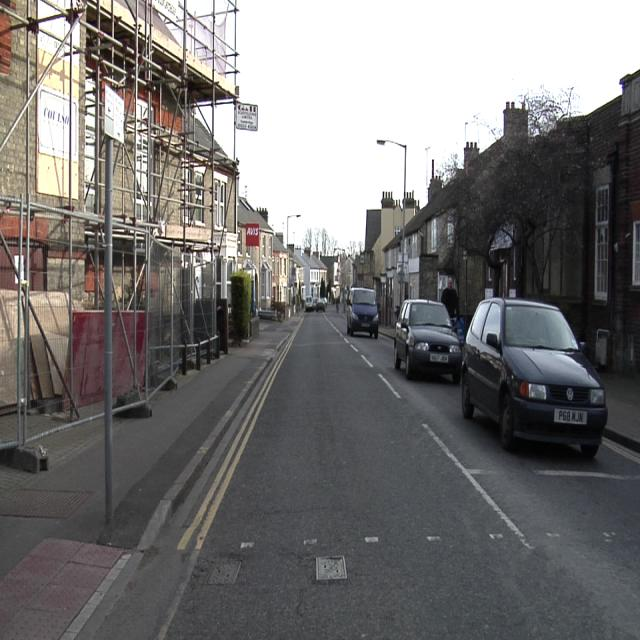Building: (2, 4, 322, 329), (355, 192, 402, 294), (406, 193, 416, 221)
Car: (461, 298, 607, 454), (395, 300, 461, 379), (348, 289, 378, 337)
Road: (0, 312, 633, 631)
Tree: (388, 90, 584, 289)
